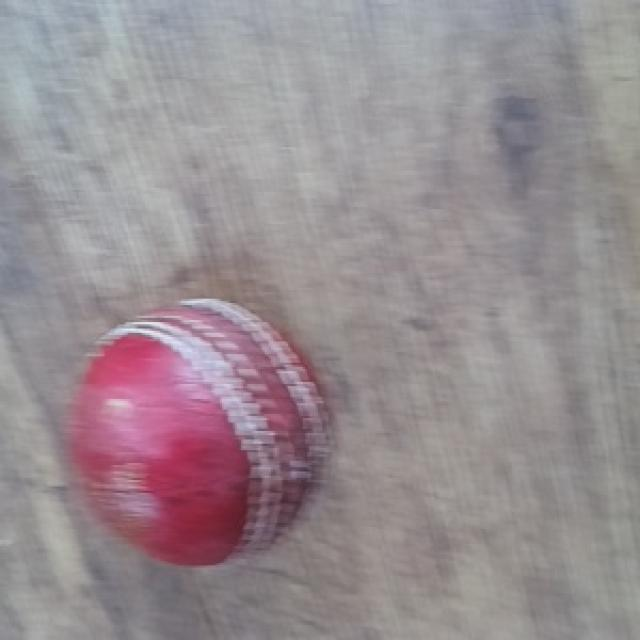ball: (66, 299, 335, 572)
